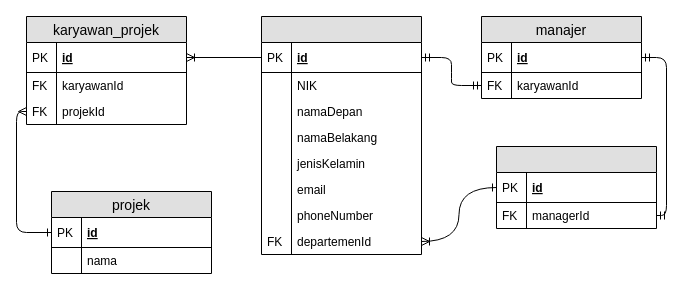
The diagram is 683 pixels wide and 290 high, and some of its shapes have lost their labels. Each missing label, with the box of its shape:
departemen: (496, 146, 656, 228)
karyawan: (260, 16, 422, 254)
